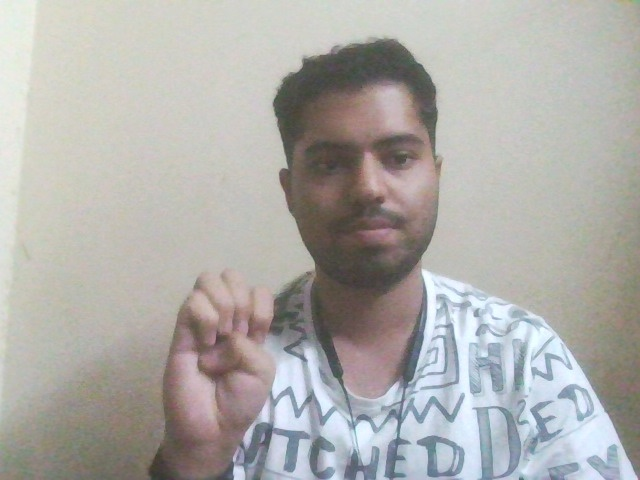Thanks: (110, 252, 324, 446)
